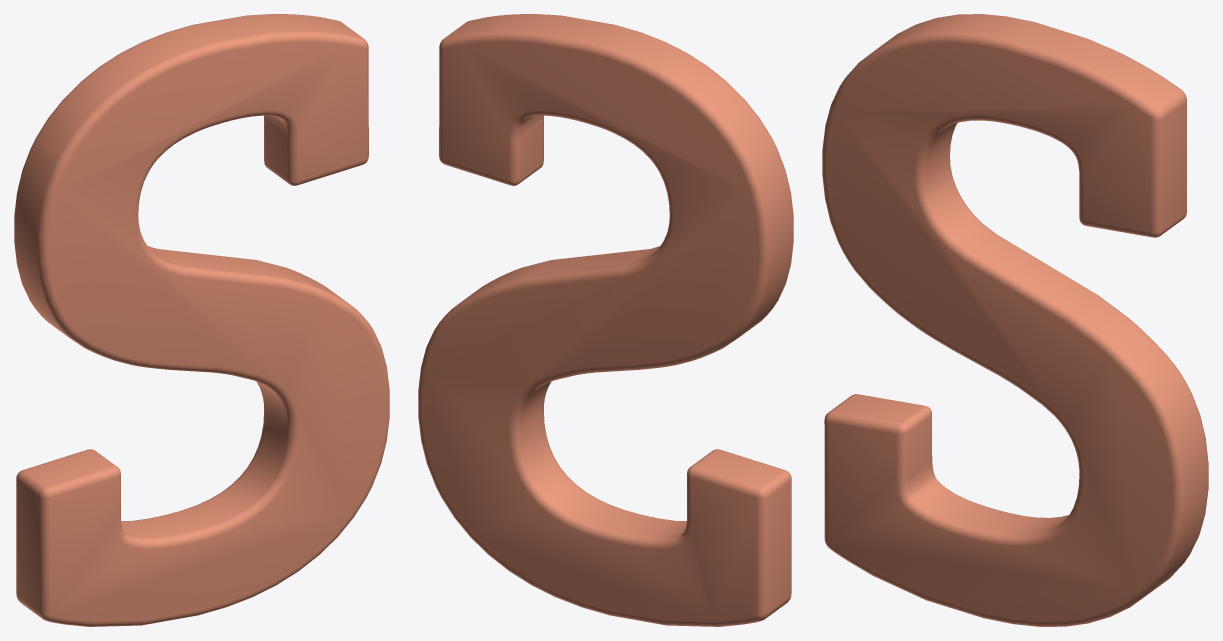
The picture shows the model from 3 angles, left to right: view 1: azimuth 30°, elevation 25°; view 2: azimuth 150°, elevation 25°; view 3: azimuth 330°, elevation 25°; orthographic projection. The views are drawn at different scales.
Visible parts, largest first — view 1: 텍스트; view 2: 텍스트; view 3: 텍스트.
Boxes of the visible parts, x1,y1,x2,y2 form: 텍스트: [14, 14, 389, 626]; 텍스트: [418, 14, 793, 626]; 텍스트: [822, 14, 1208, 626].
Bounding box in the file's own units: 0.3285 × 0.5081 × 0.05.
